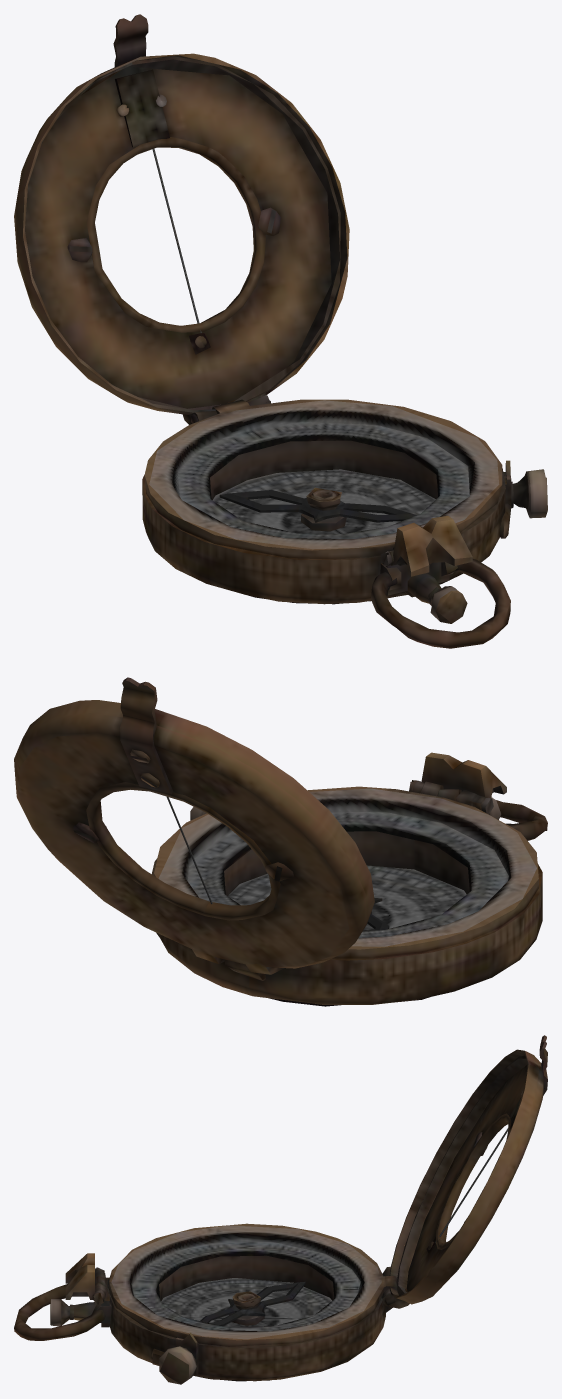
The model's file is compass.glb.
The picture shows the model from 3 angles, top to bottom: view 1: azimuth 30°, elevation 25°; view 2: azimuth 150°, elevation 25°; view 3: azimuth 270°, elevation 25°; orthographic projection. The views are drawn at different scales.
Bounding box in the file's own units: 0.0811 × 0.0866 × 0.1434.
1 material, 1 textured.
